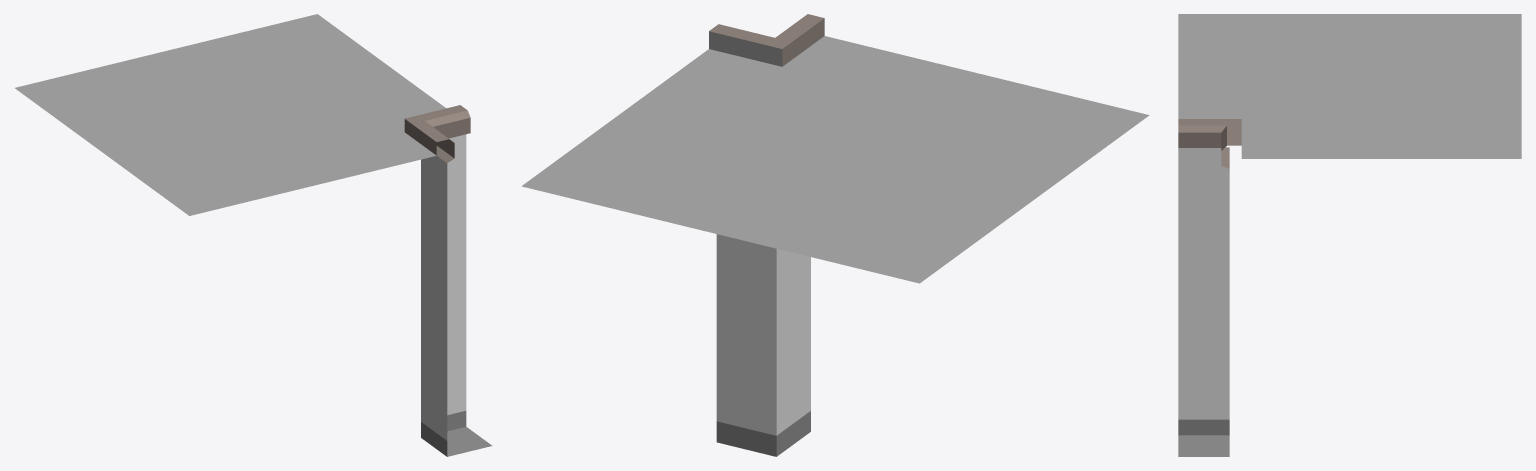
File: house_interiorCorner_mesh.fbx
The picture shows the model from 3 angles, left to right: view 1: azimuth 30°, elevation 25°; view 2: azimuth 150°, elevation 25°; view 3: azimuth 270°, elevation 25°; orthographic projection. The views are drawn at different scales.
Visible parts, largest first — view 1: house_interiorCorner_mesh; view 2: house_interiorCorner_mesh; view 3: house_interiorCorner_mesh.
Part boxes in pixels (x1=…): house_interiorCorner_mesh: x1=15, y1=14, x2=492, y2=456; house_interiorCorner_mesh: x1=521, y1=14, x2=1149, y2=456; house_interiorCorner_mesh: x1=1178, y1=14, x2=1521, y2=456.
Bounding box in the file's own units: 1 × 1 × 1.
